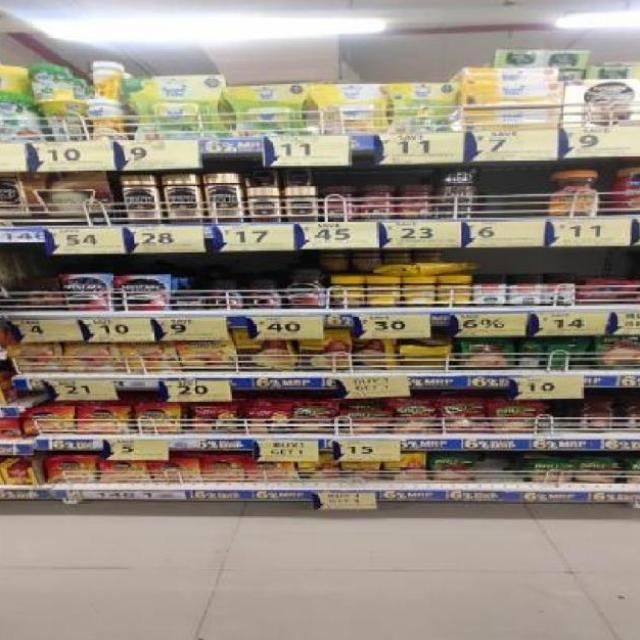Coffee: (549, 171, 599, 217), (66, 334, 124, 371), (7, 335, 65, 370), (181, 332, 234, 369), (125, 337, 177, 373), (119, 275, 169, 311), (122, 175, 158, 223), (62, 274, 110, 310), (285, 269, 329, 307), (205, 174, 239, 222), (166, 175, 199, 223), (81, 405, 126, 431), (137, 406, 179, 433), (248, 188, 280, 223), (26, 409, 72, 433), (285, 187, 316, 222), (49, 457, 92, 482), (201, 459, 243, 483), (246, 280, 280, 308), (152, 460, 195, 482), (103, 460, 144, 482), (211, 282, 242, 310), (247, 461, 292, 480), (172, 292, 205, 308)
